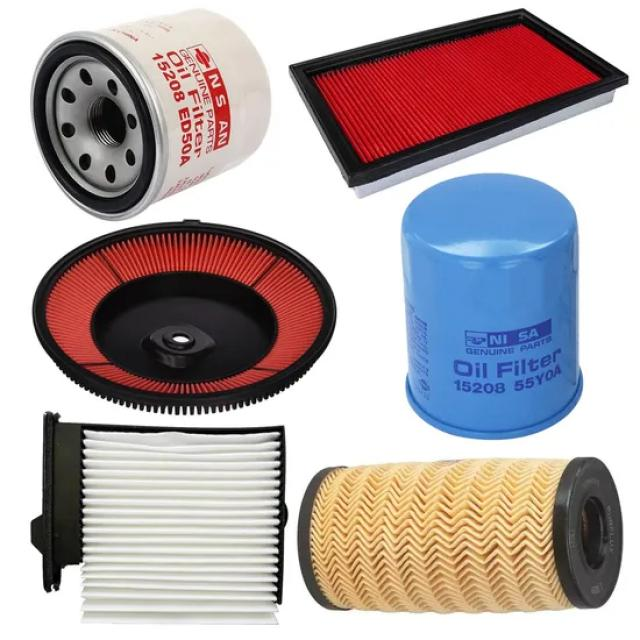air_filter: (287, 4, 635, 198), (29, 406, 294, 628)
oil_filter: (297, 450, 628, 613), (28, 8, 275, 222), (397, 177, 587, 442)
